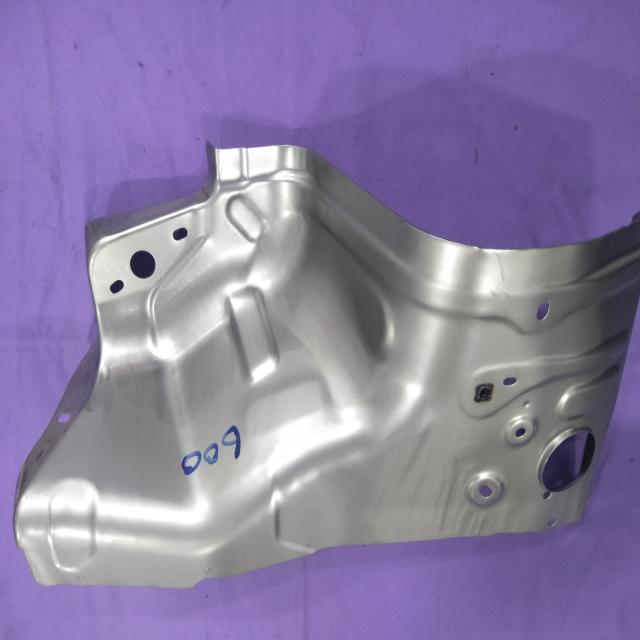Healthy: (13, 137, 638, 591)
